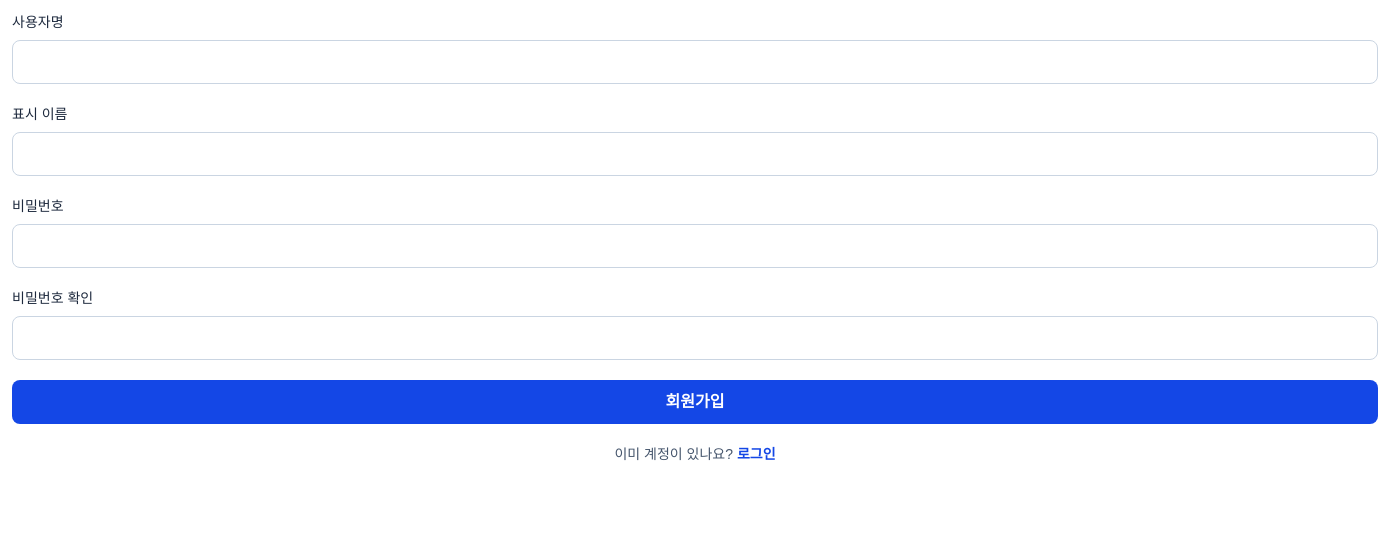
Test: signup screen › shows the frozen duplicate-user error
The width and height of the screenshot is (1390, 534).
Type "local.user" into the field labelled "사용자명" at (695, 62), box [12,40,1378,84]
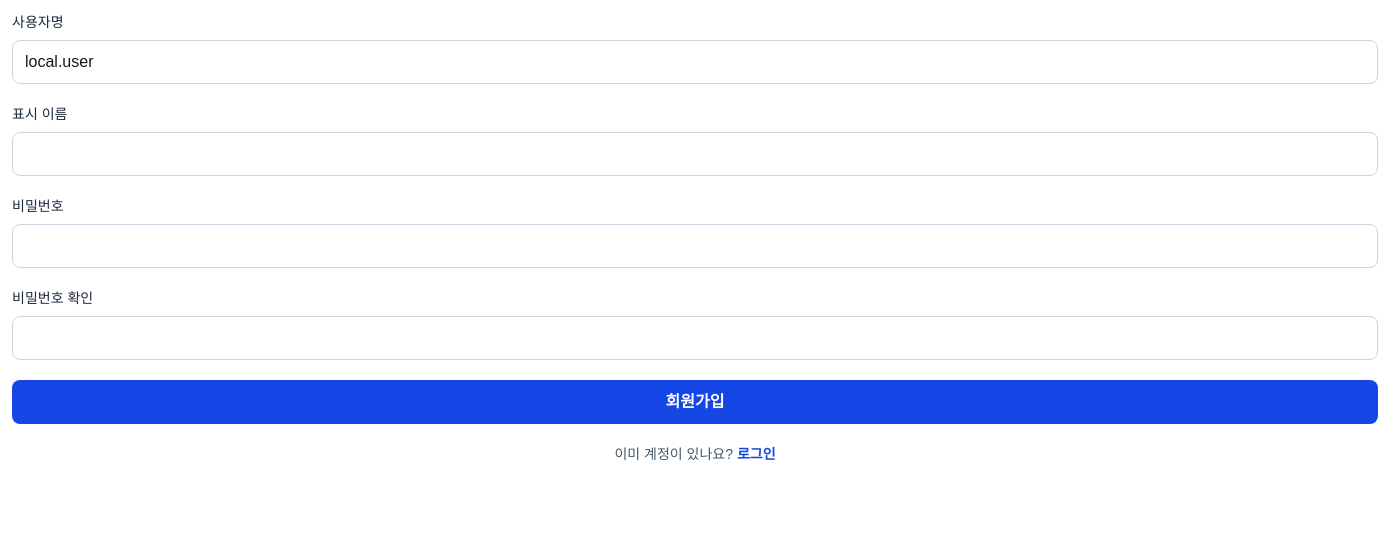
Type "로컬 사용자" into the field labelled "표시 이름" at (695, 154), box [12,132,1378,176]
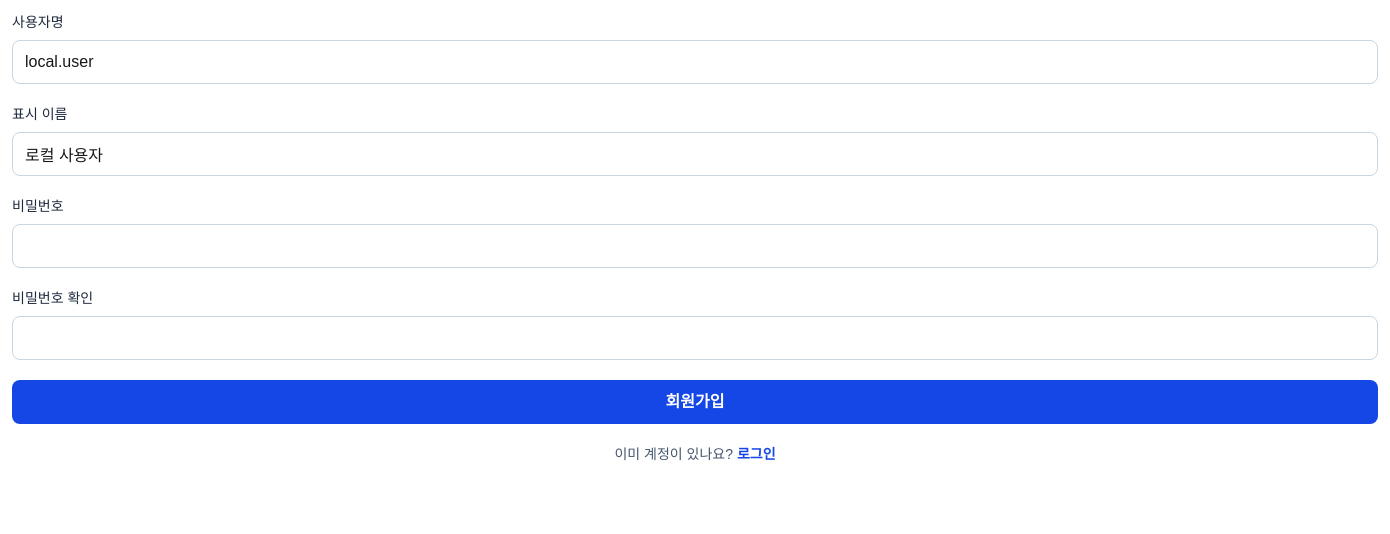
Type "xxxxxxxxxx" into the password field labelled "비밀번호" at (695, 246), box [12,224,1378,268]
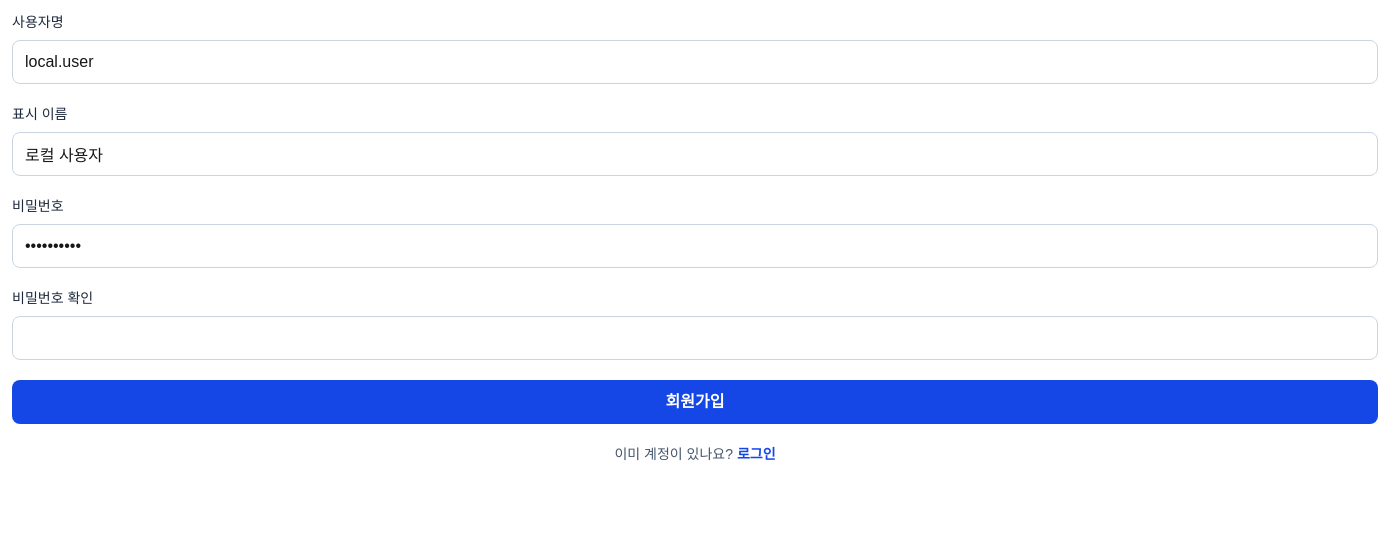
Type "xxxxxxxxxx" into the password field labelled "비밀번호 확인" at (695, 338), box [12,316,1378,360]
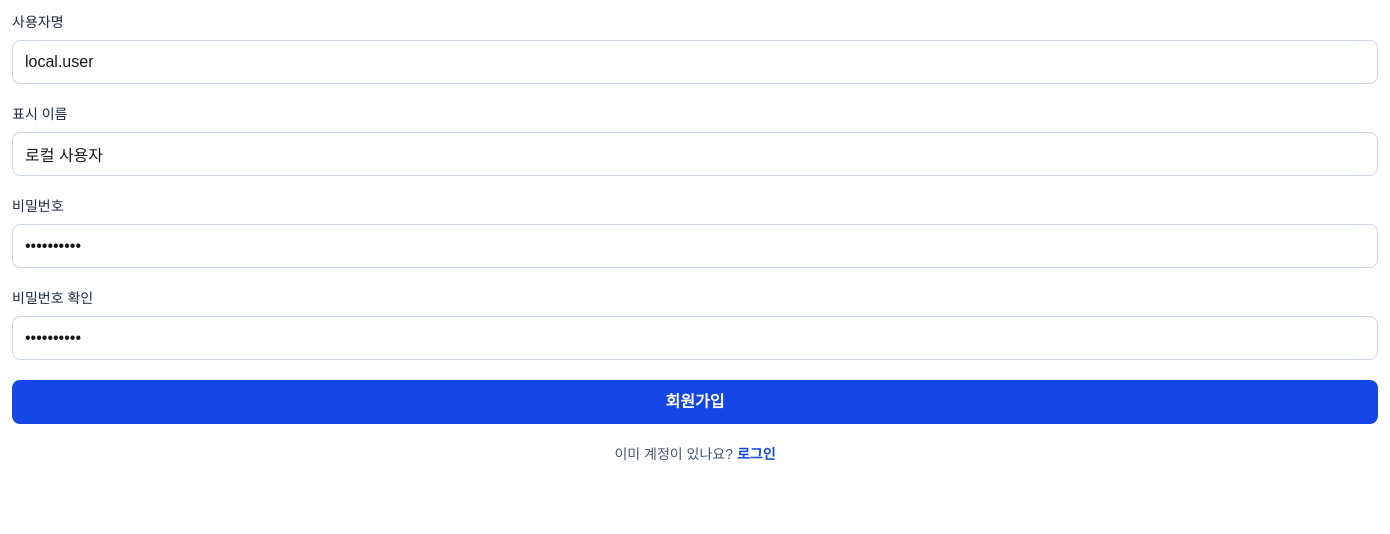
Click the button "회원가입" at (695, 402), box [12,380,1378,424]
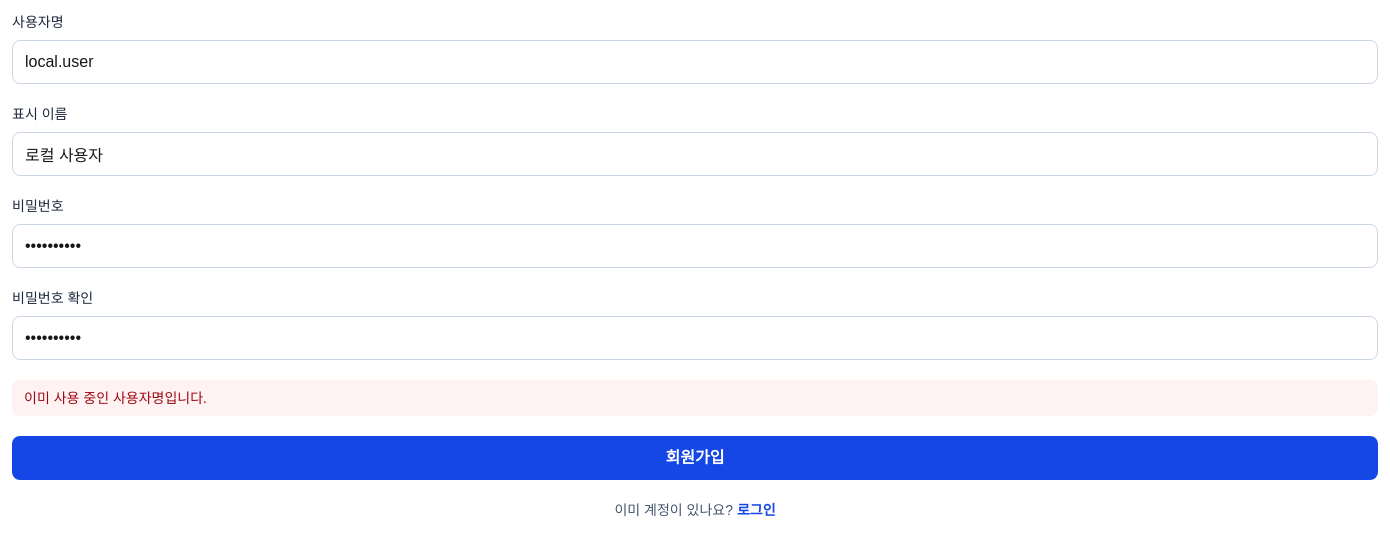
Check: the message reads "이미 사용 중인 사용자명입니다.", box [24,390,207,406]
